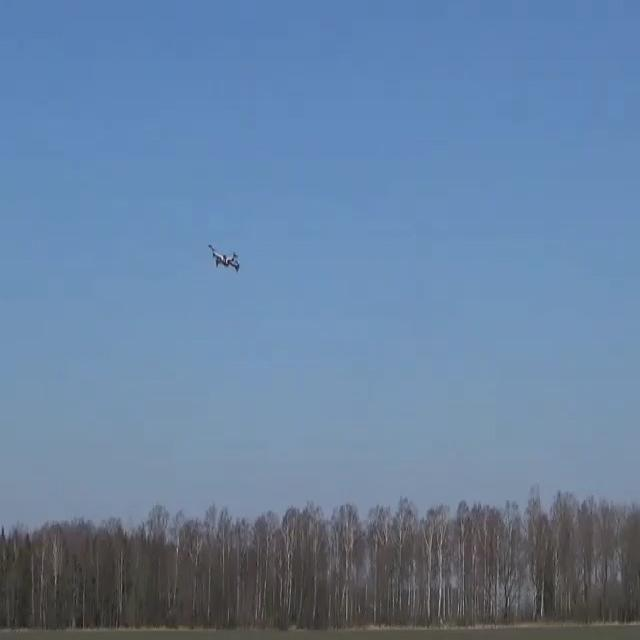drone: (207, 242, 240, 272)
